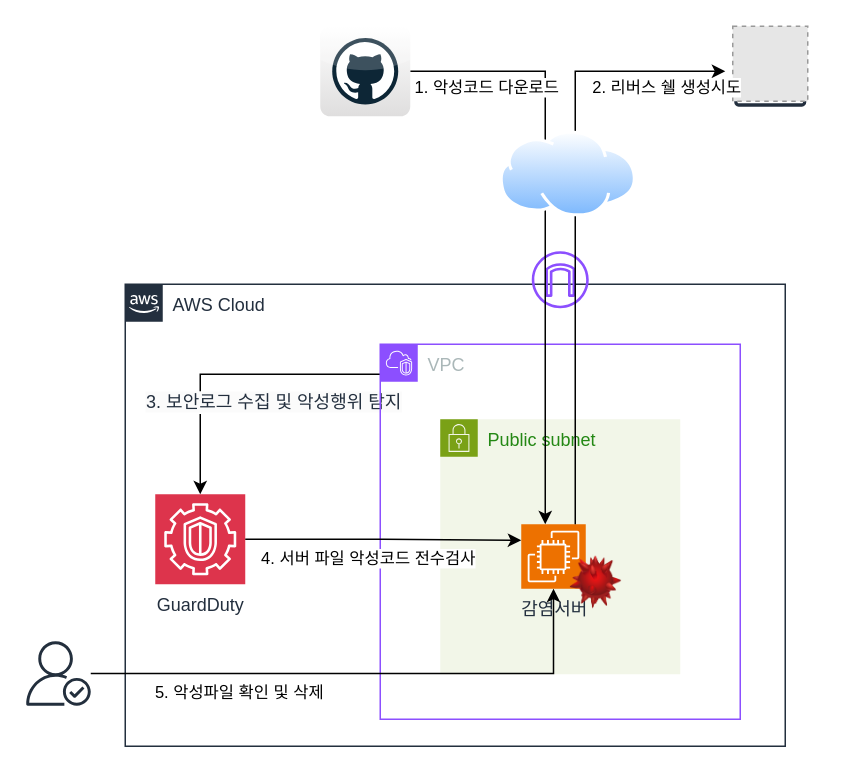
Some shapes in this 843 by 773 pixel diagram are drawn without their labels. Grey dashed boxes stand in for pictures. Each missing label, with the box of its shape:
C&C Server: (724, 25, 815, 116)
github: (319, 25, 410, 116)
